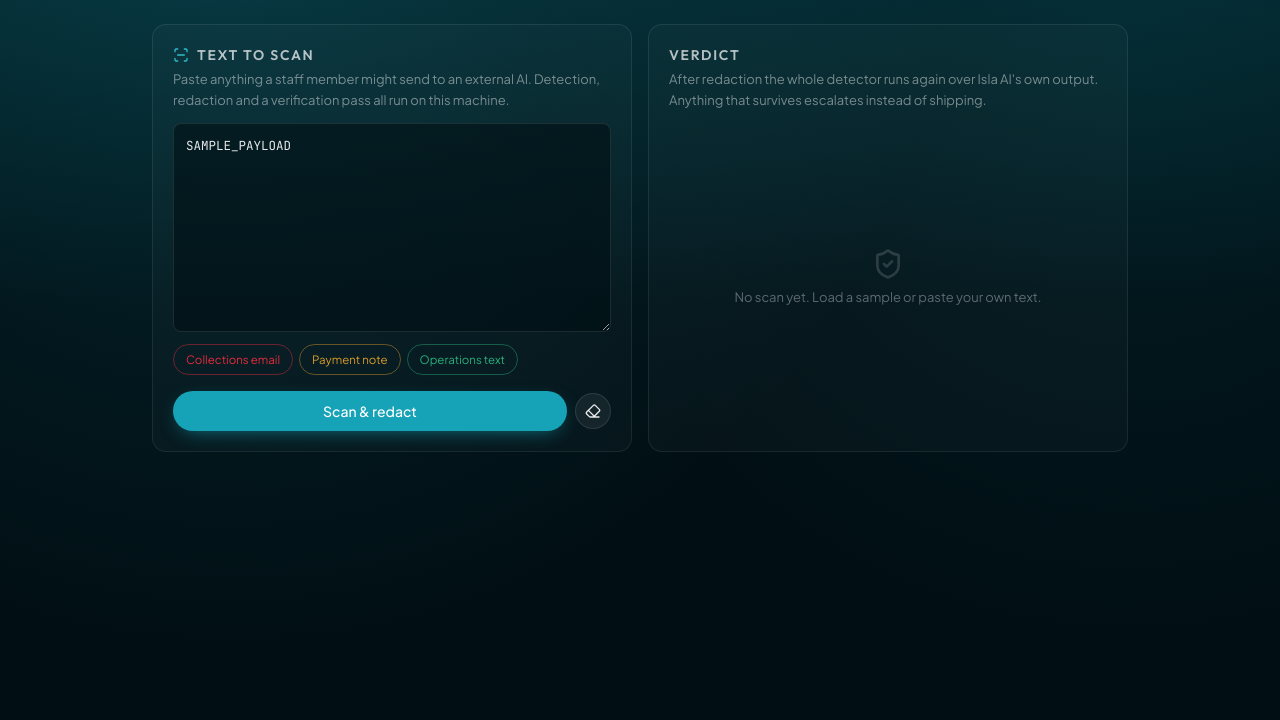
EgressGuard › renders BLOCK in the block tone with a visible label
Replace the text in the text box named "Text to scan for personal information" with "sensitive" at (392, 228), box [173,123,611,332]
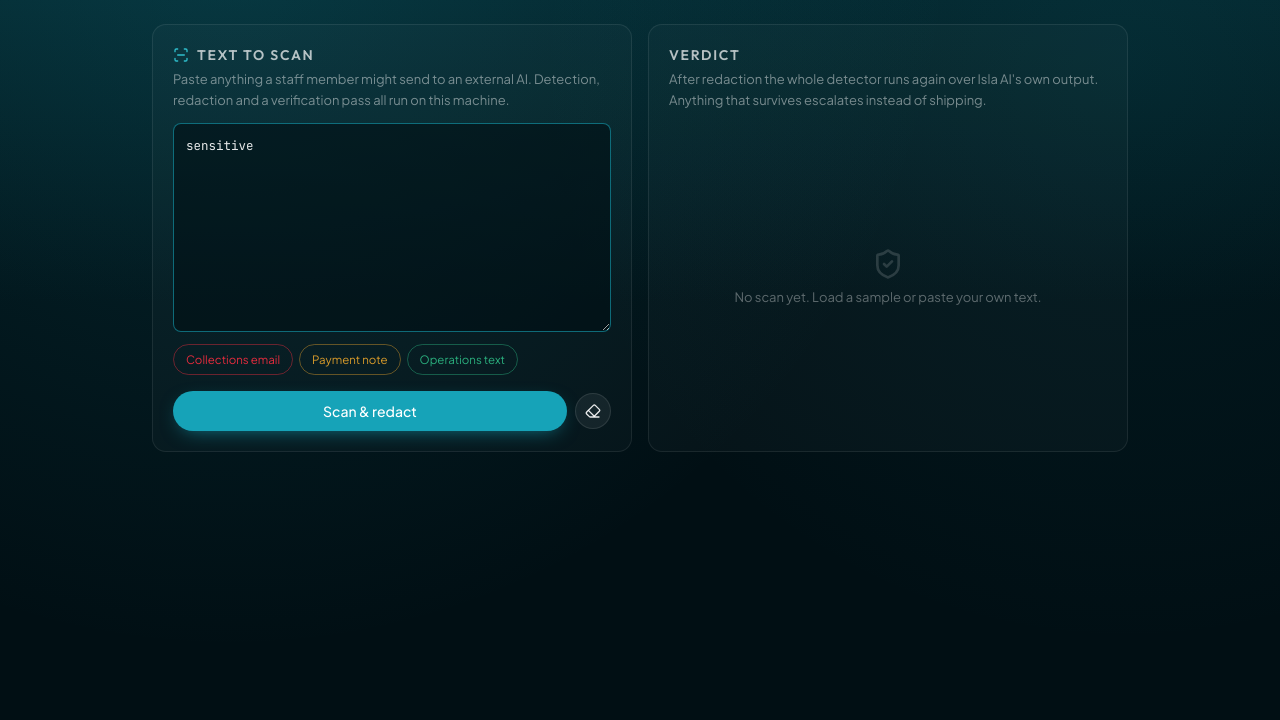
Click the button "Scan & redact" at (370, 411), box [173,391,567,431]
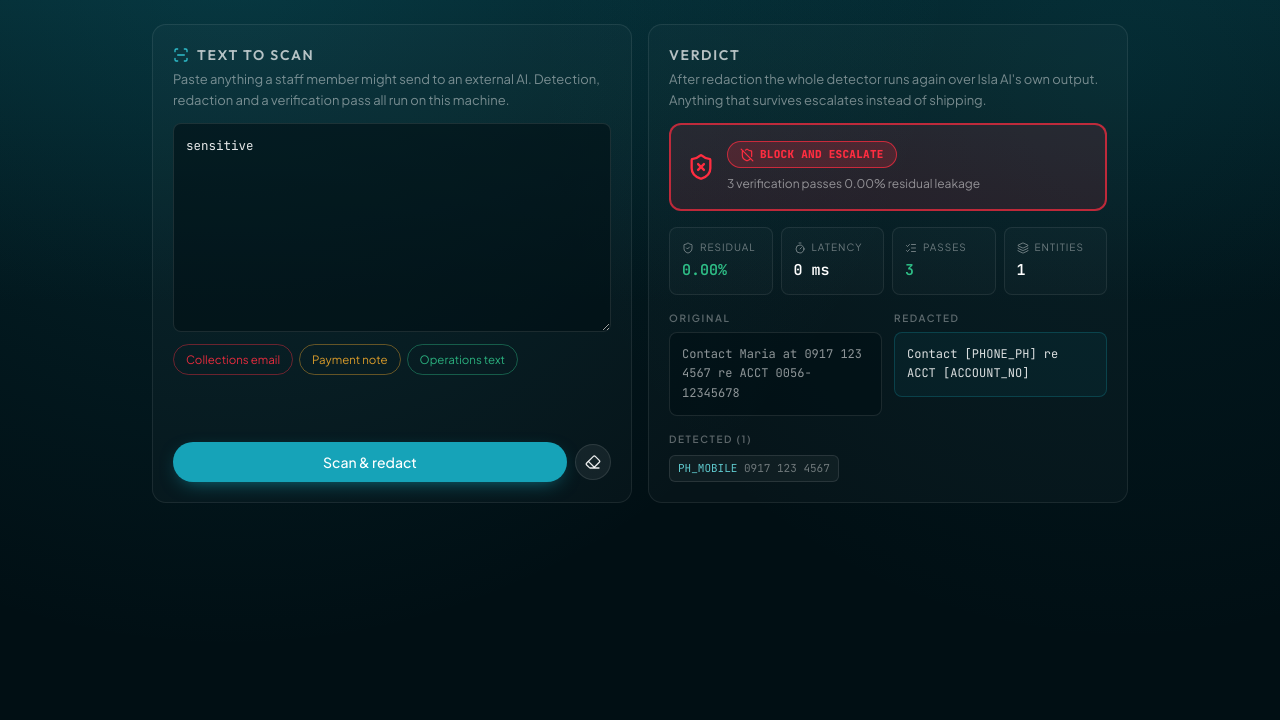
Result: the text "Block and escalate" is shown at [760,146,884,163]
